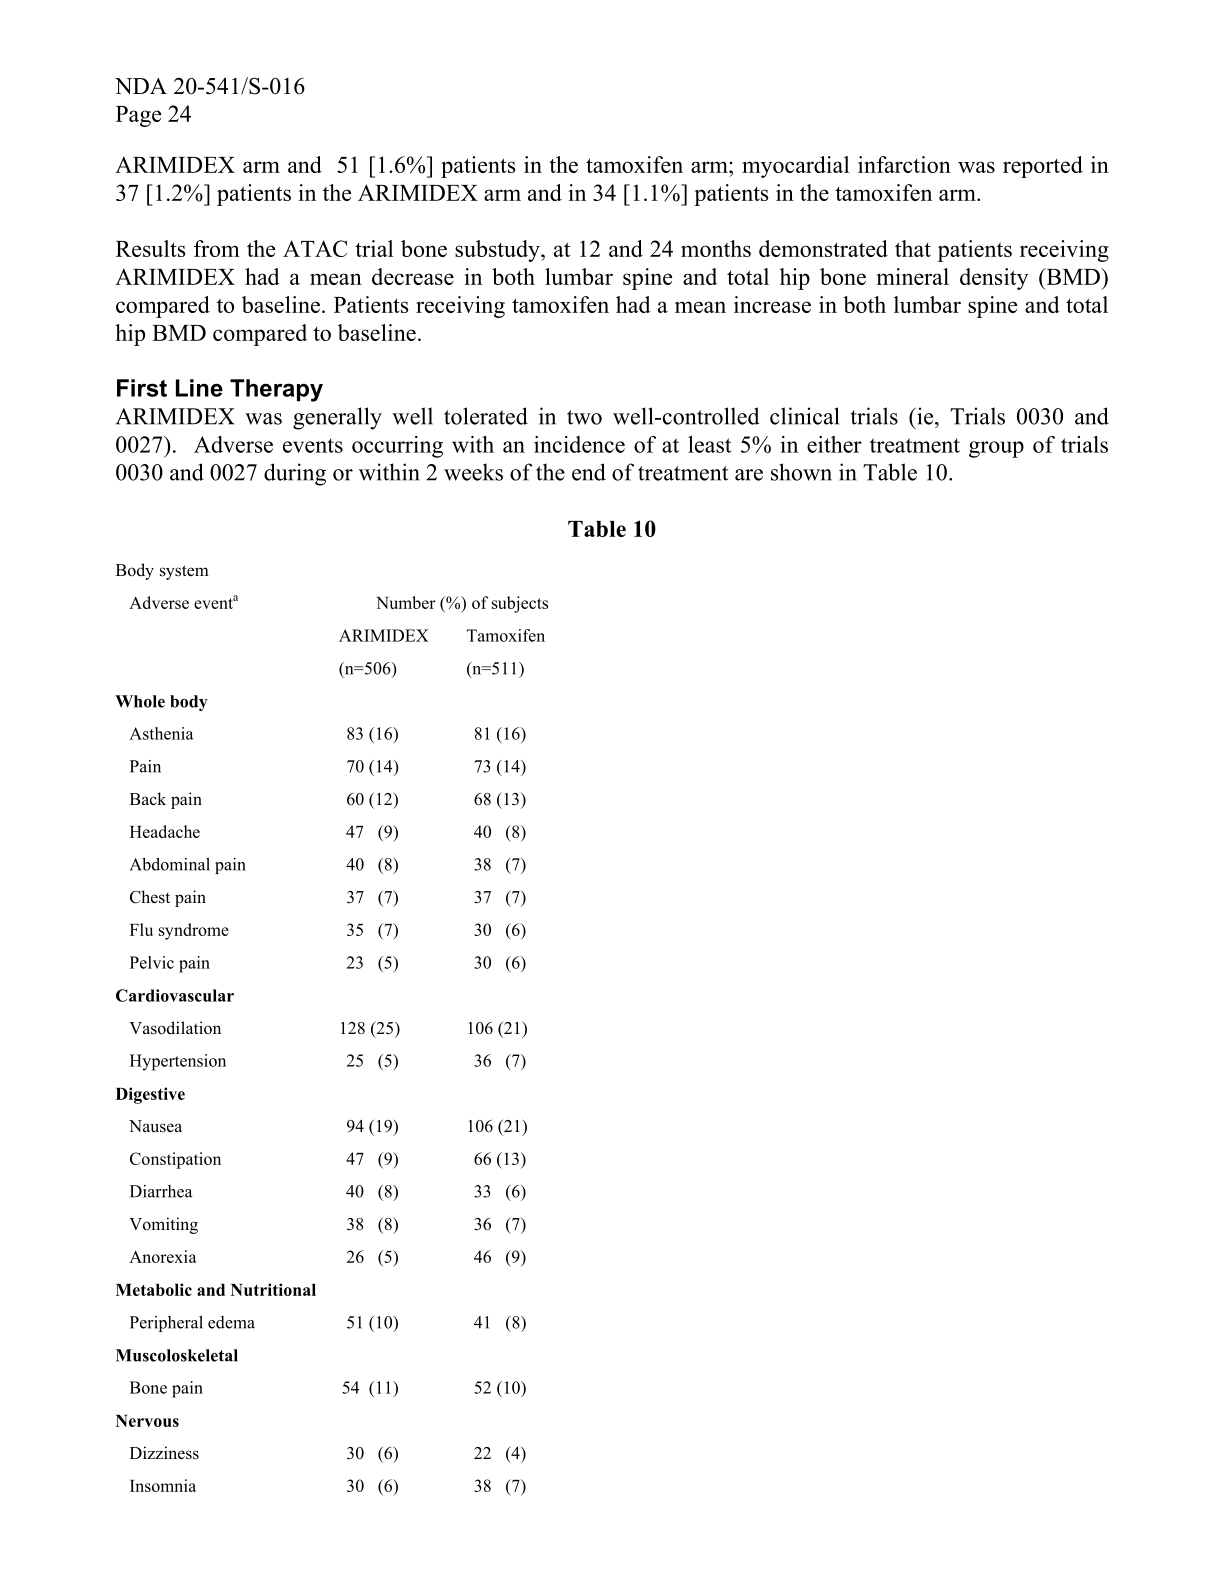nolines: (111, 559, 552, 1506)
